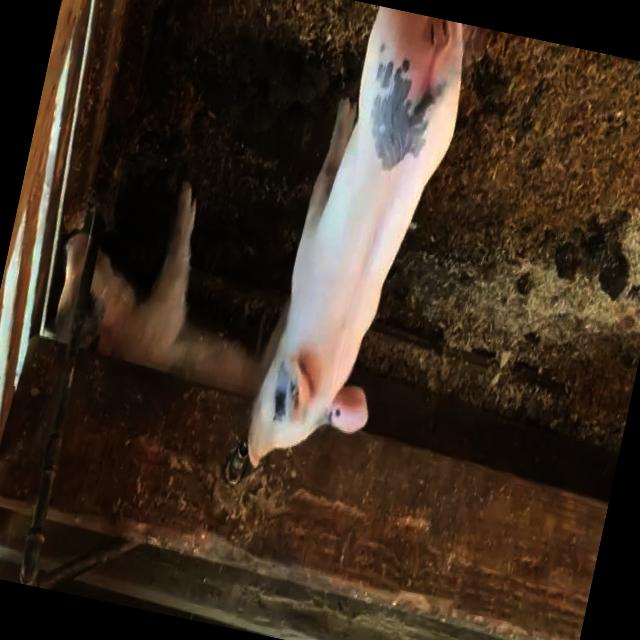pig: (246, 6, 462, 465), (82, 182, 284, 395), (54, 233, 89, 343)
